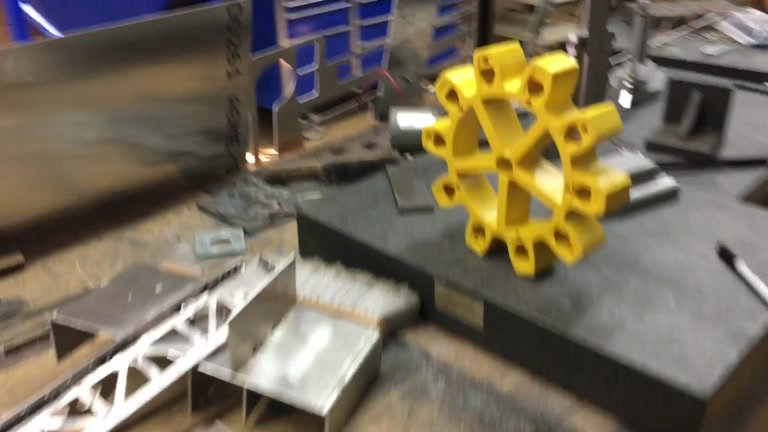gear: (419, 38, 631, 281)
